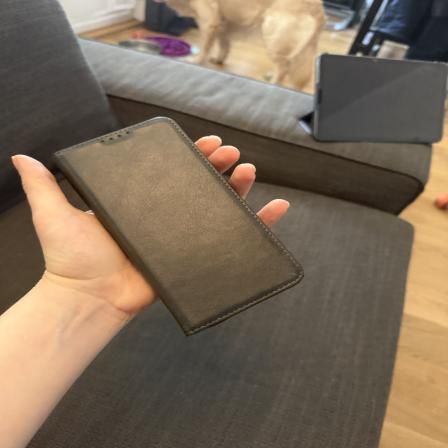phone: (47, 118, 314, 334)
